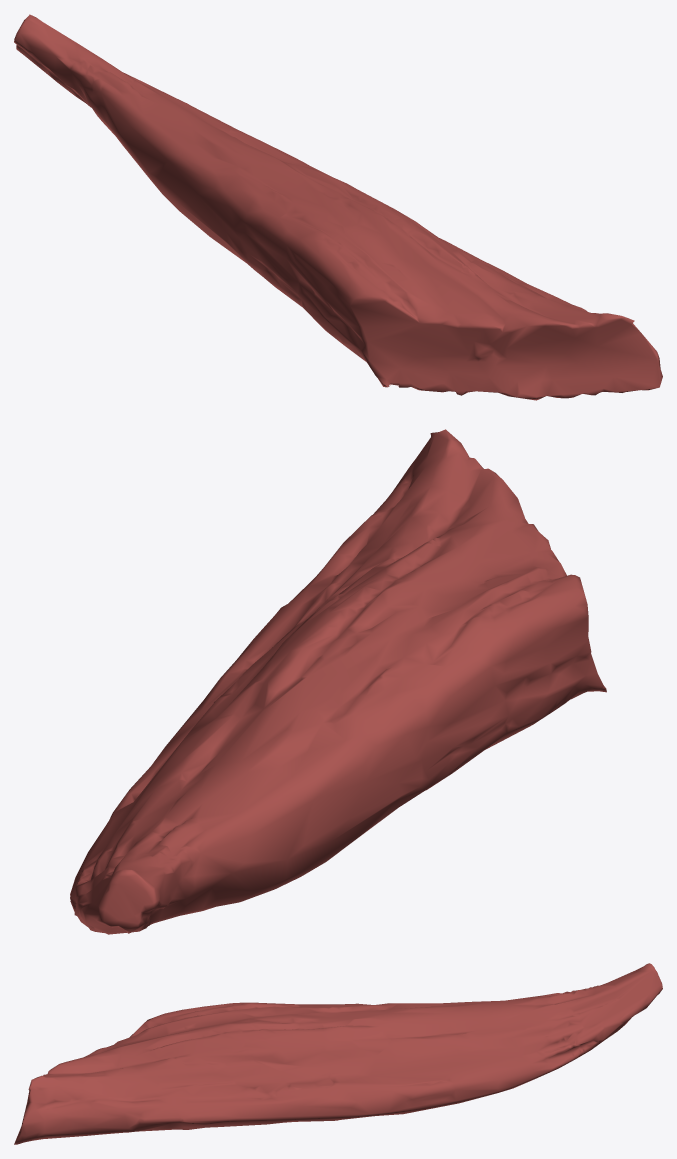
The model's file is FMA46304.glb.
3 renders of one model, top to bottom at view 1: azimuth 30°, elevation 25°; view 2: azimuth 150°, elevation 25°; view 3: azimuth 270°, elevation 25°, orthographic. The views are drawn at different scales.
Parts seen in each view (by area): view 1: FMA46304; view 2: FMA46304; view 3: FMA46304.
Boxes of the visible parts, x1,y1,x2,y2 form: FMA46304: (14,14,662,400); FMA46304: (70,429,606,934); FMA46304: (14,963,662,1144).
Size of the model in its own units: 0.0116 by 0.00627 by 0.0346.
